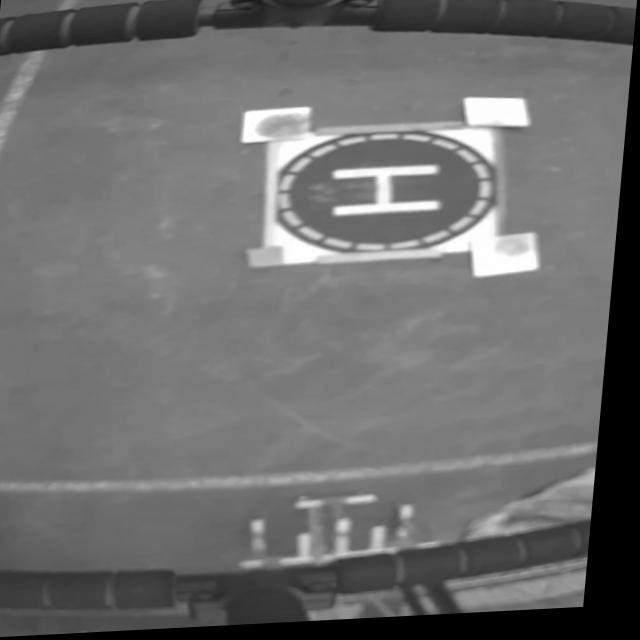Helipad: (334, 169, 443, 220)
